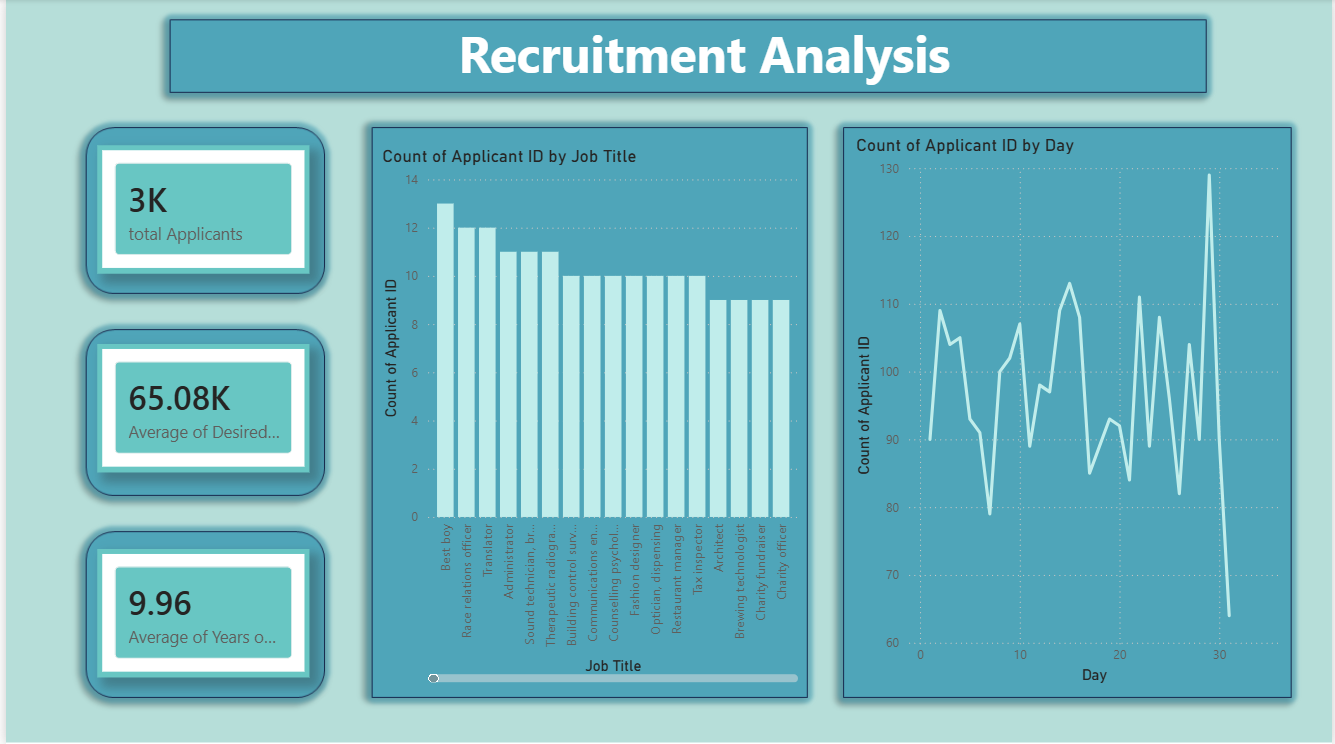

This screenshot's page, from the dashboard's own definition file:
{"tool":"powerbi","page":{"name":"Page 4","canvas":[1280,720],"ordinal":3},"visuals":[{"type":"textbox","box":[162.5,15,981.2,82.5],"z":0},{"type":"cardVisual","fields":{"Data":["CountNonNull(recruitment_data.Applicant ID)"]},"box":[87.5,141.2,205,123.8],"z":1000},{"type":"cardVisual","fields":{"Data":["Avg(recruitment_data.Years of Experience)"]},"box":[87.5,531.2,205,123.8],"z":2000},{"type":"cardVisual","fields":{"Data":["Avg(recruitment_data.Desired Salary)"]},"box":[87.5,332.5,205,123.8],"z":3000},{"type":"clusteredColumnChart","fields":{"Y":["CountNonNull(recruitment_data.Applicant ID)"],"Category":["recruitment_data.Job Title"]},"box":[358.8,141.2,411.2,523.8],"z":4000},{"type":"lineChart","fields":{"Category":["recruitment_data.Application Date.Variation.Date Hierarchy.Day"],"Y":["CountNonNull(recruitment_data.Applicant ID)"]},"box":[815,130,418.8,535],"z":5000}]}

Visuals, with their boxes in screenshot pixels (x1, y1, x2, y2), scaled from the page's 1280x720 canvas onto the 1335x744 screenshot:
textbox: 169 16 1193 101
cardVisual - CountNonNull(recruitment_data.Applicant ID): 91 146 305 274
cardVisual - Avg(recruitment_data.Years of Experience): 91 549 305 677
cardVisual - Avg(recruitment_data.Desired Salary): 91 344 305 472
clusteredColumnChart - CountNonNull(recruitment_data.Applicant ID) x recruitment_data.Job Title: 374 146 803 687
lineChart - recruitment_data.Application Date.Variation.Date Hierarchy.Day x CountNonNull(recruitment_data.Applicant ID): 850 134 1287 687
